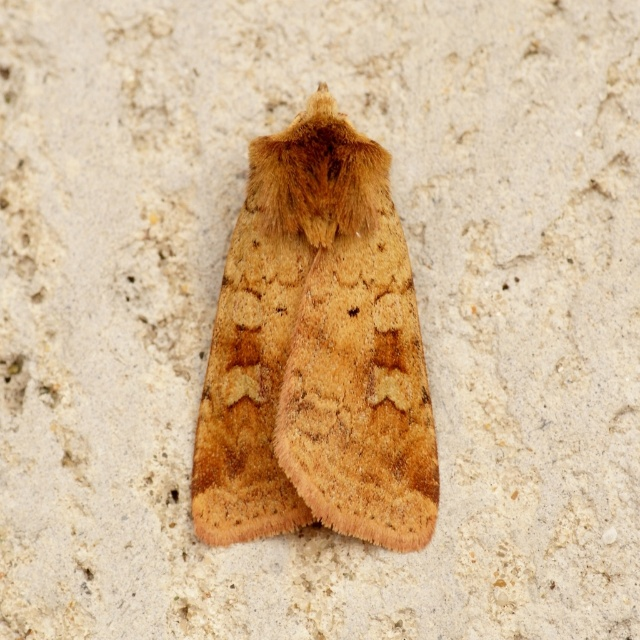Moths and butterflies: (188, 81, 444, 546)
